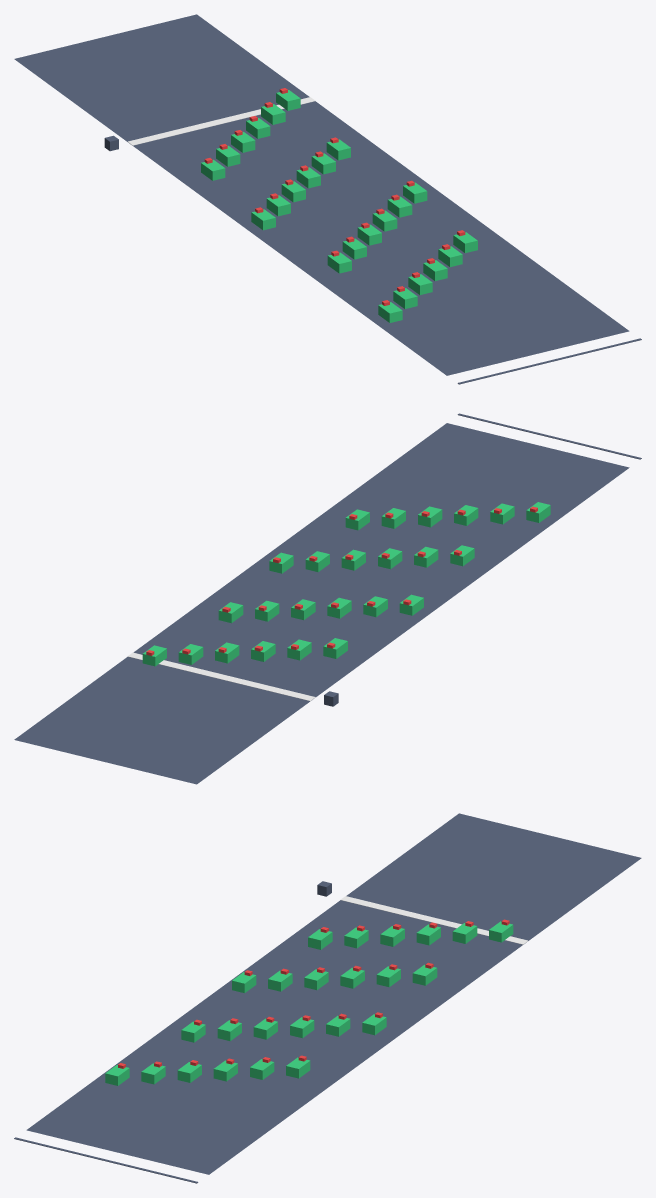
The model's file is start_grid.obj.
3 renders of one model, top to bottom at view 1: azimuth 30°, elevation 25°; view 2: azimuth 150°, elevation 25°; view 3: azimuth 330°, elevation 25°, orthographic.
Visible parts, largest first — view 1: StraightTheEditorKeeps, StartLine; view 2: StraightTheEditorKeeps, StartLine; view 3: StraightTheEditorKeeps, StartLine.
Part boxes in pixels (x1,y1,x2,y2): StraightTheEditorKeeps: (14,14,629,375); StartLine: (128,97,315,145); StraightTheEditorKeeps: (14,423,629,784); StartLine: (127,652,315,701); StraightTheEditorKeeps: (26,813,641,1174); StartLine: (340,896,527,944).
Size of the model in its own units: 22.5 by 1.32 by 84.3.
